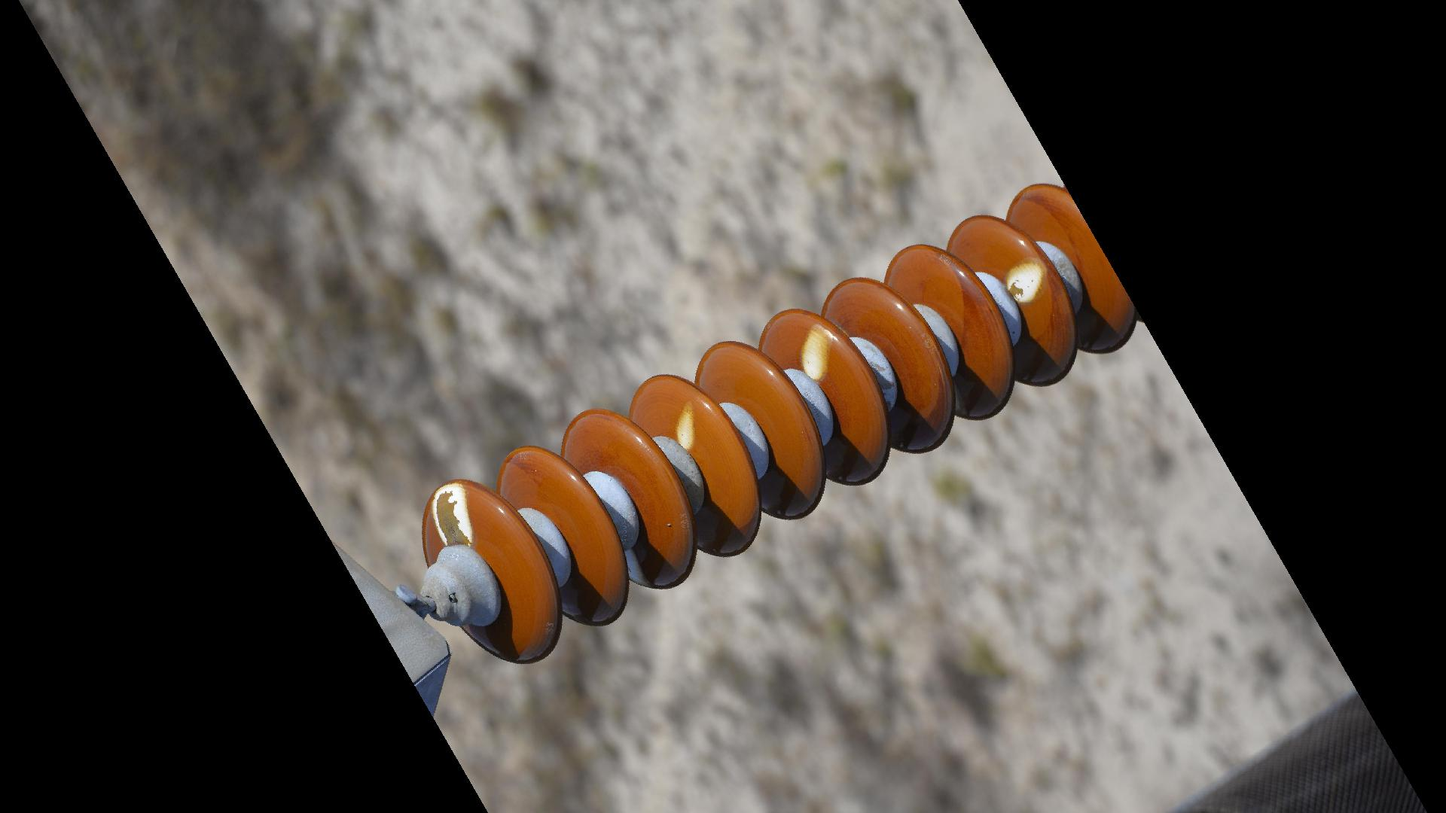insulator: (417, 180, 1142, 671)
insulator_flashover: (429, 479, 476, 550), (798, 320, 837, 384), (1004, 253, 1048, 306), (673, 400, 700, 452)
